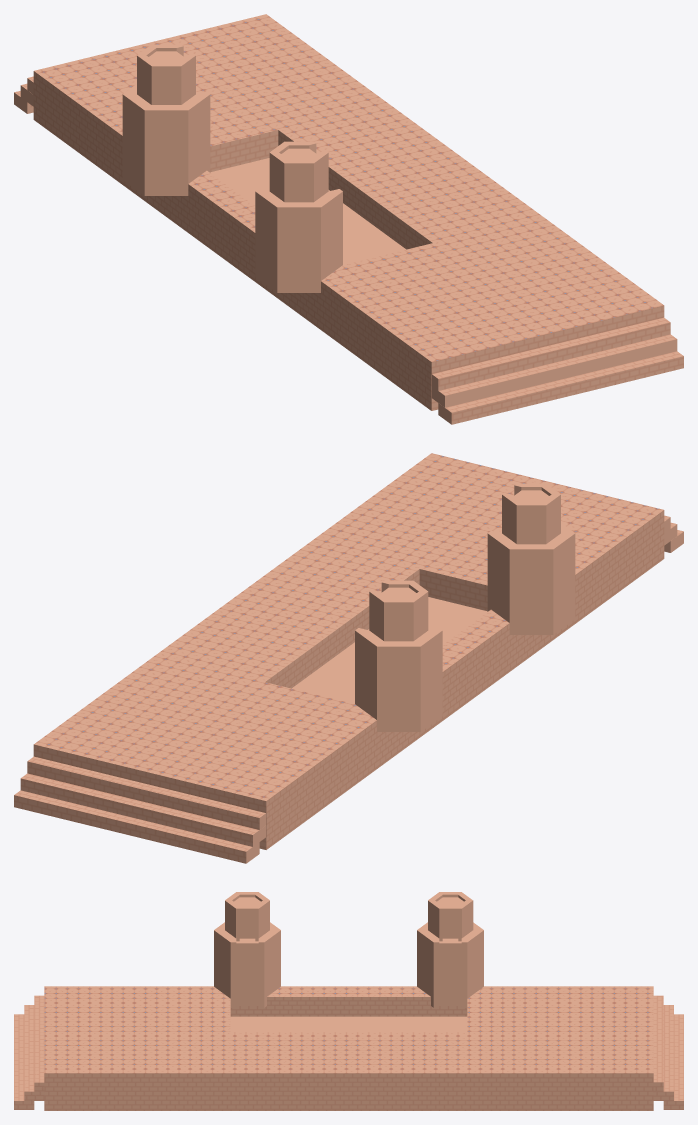
File: ithinkthis is it.dae
3 views of the same model, one above another, from view 1: azimuth 30°, elevation 25°; view 2: azimuth 150°, elevation 25°; view 3: azimuth 270°, elevation 25° (orthographic). The views are drawn at different scales.
Visible parts, largest first — view 1: the grund, stair, fountin2, fountin; view 2: the grund, stair opp, fountin, fountin2; view 3: the grund, fountin2, fountin, stair opp, stair.
Part boxes in pixels (x1=…): the grund: x1=33, y1=14, x2=664, y2=410; stair: x1=432, y1=317, x2=683, y2=424; fountin2: x1=122, y1=44, x2=210, y2=195; fountin: x1=255, y1=141, x2=342, y2=292; the grund: x1=33, y1=453, x2=664, y2=849; stair opp: x1=14, y1=756, x2=265, y2=863; fountin: x1=487, y1=483, x2=575, y2=634; fountin2: x1=355, y1=580, x2=442, y2=731; the grund: x1=44, y1=986, x2=653, y2=1110; fountin2: x1=417, y1=892, x2=483, y2=1007; fountin: x1=214, y1=892, x2=280, y2=1007; stair opp: x1=653, y1=995, x2=683, y2=1109; stair: x1=14, y1=995, x2=44, y2=1109.
Bounding box in the file's own units: 18.48 × 52.8 × 10.75.
4 materials, 4 textured.
